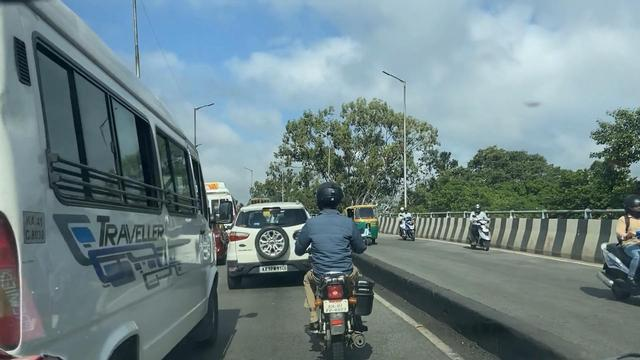HMV: (0, 31, 226, 360)
LMV: (285, 190, 373, 358)
